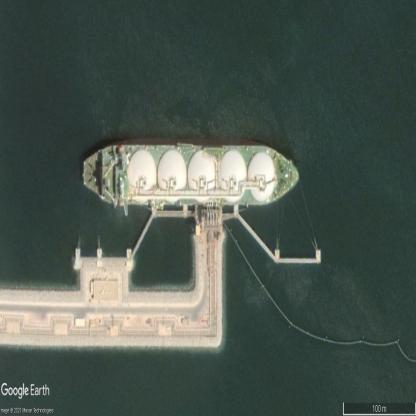ship: (82, 146, 299, 208)
